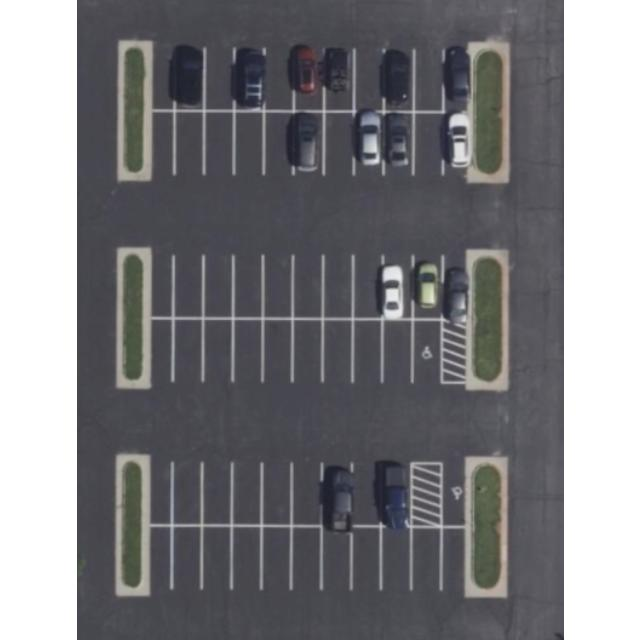Empty: (260, 255, 292, 318), (173, 111, 204, 173), (204, 47, 234, 111), (320, 526, 350, 590), (170, 526, 200, 590), (204, 111, 234, 173), (324, 112, 354, 174), (354, 50, 384, 112), (413, 50, 443, 112), (413, 112, 443, 174), (322, 256, 352, 318), (292, 256, 322, 318), (233, 256, 263, 318), (202, 256, 232, 318), (172, 256, 202, 318), (172, 318, 202, 380), (292, 319, 322, 381), (322, 319, 352, 381), (382, 320, 412, 382), (350, 526, 380, 588), (290, 527, 320, 589), (261, 527, 291, 589), (230, 526, 260, 588), (200, 526, 230, 588), (172, 463, 202, 525), (201, 463, 231, 525), (292, 464, 322, 526), (412, 320, 441, 384), (232, 318, 262, 379), (264, 50, 294, 110), (410, 527, 440, 587), (232, 464, 262, 524), (261, 464, 291, 524), (353, 256, 382, 318), (382, 526, 411, 588), (354, 318, 382, 382), (352, 466, 382, 524), (234, 111, 262, 173), (264, 112, 292, 174), (204, 318, 232, 380), (264, 320, 292, 380), (442, 462, 466, 526), (150, 112, 174, 174), (148, 256, 172, 318), (148, 319, 172, 381), (441, 527, 465, 589), (147, 526, 171, 588), (147, 462, 171, 524), (150, 46, 173, 110)
Parked: (321, 462, 352, 526), (324, 48, 354, 112), (294, 48, 324, 110), (174, 48, 204, 110), (383, 50, 413, 112), (352, 112, 382, 174), (292, 112, 322, 174), (412, 256, 442, 318), (381, 256, 411, 318), (380, 464, 410, 526), (382, 111, 412, 172), (443, 112, 471, 176), (234, 49, 262, 110), (444, 48, 471, 110), (442, 256, 468, 320)
